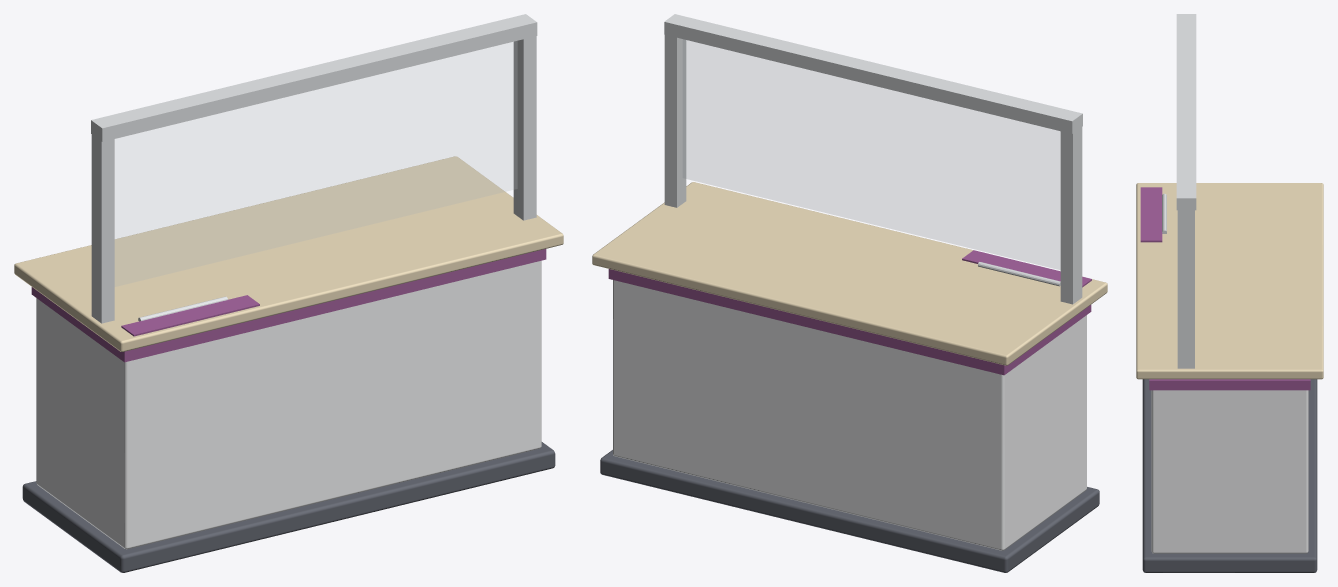
File: pharmacy-and-high-street-chemist-dispensary-counter-dec96f22__37532.glb
3 renders of one model, left to right at view 1: azimuth 30°, elevation 25°; view 2: azimuth 150°, elevation 25°; view 3: azimuth 270°, elevation 25°, orthographic. The views are drawn at different scales.
Visible parts, largest first — view 1: dispensary-counter, hatch/plum; view 2: dispensary-counter, hatch/plum; view 3: dispensary-counter, hatch/plum.
Boxes of the visible parts, <box> form: dispensary-counter: <box>14,14,563,572</box>; hatch/plum: <box>121,295,259,336</box>; dispensary-counter: <box>592,14,1107,572</box>; hatch/plum: <box>962,250,1091,287</box>; dispensary-counter: <box>1136,14,1323,572</box>; hatch/plum: <box>1140,187,1162,242</box>.
Size of the model in its own units: 2.04 by 1.9 by 0.86.
